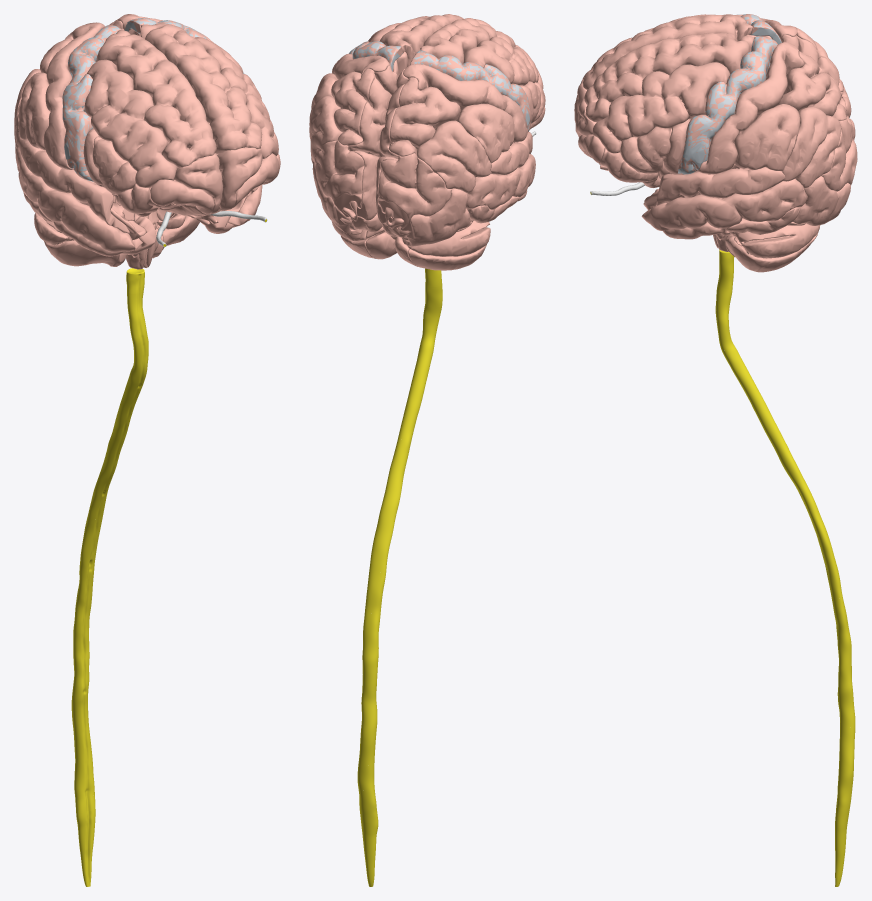
The model's file is nervous.glb.
The picture shows the model from 3 angles, left to right: view 1: azimuth 30°, elevation 25°; view 2: azimuth 150°, elevation 25°; view 3: azimuth 270°, elevation 25°; orthographic projection. The views are drawn at different scales.
Parts seen in each view (by area): view 1: superior-frontal-gyrus, middle-frontal-gyrus, superior-frontal-gyrus-2, middle-temporal-gyrus, superior-temporal-gyrus, postcentral-gyrus, precentral-gyrus, middle-frontal-gyrus-2, hra10-allen-primary-motor-cortex-l, allen-supramarginal-gyrus-l, allen-rostral-gyrus-r, allen-lateral-hemisphere-of-cerebellum-l (+12 smaller); view 2: superior-occipital-gyrus, allen-angular-gyrus-l, allen-supraparietal-lobule-l, postcentral-gyrus, superior-occipital-gyrus-2, allen-lateral-hemisphere-of-cerebellum-l, allen-supraparietal-lobule-r, inferior-occipital-gyrus, allen-supramarginal-gyrus-l, middle-frontal-gyrus, superior-frontal-gyrus, middle-temporal-gyrus (+23 smaller); view 3: middle-frontal-gyrus-2, superior-frontal-gyrus-2, middle-temporal-gyrus-2, postcentral-gyrus-2, allen-supramarginal-gyrus-r, allen-angular-gyrus-r, superior-temporal-gyrus-2, hra10-allen-primary-motor-cortex-r, allen-lateral-hemisphere-of-cerebellum-r, superior-frontal-gyrus, allen-supraparietal-lobule-r, precentral-gyrus-2 (+7 smaller).
Boxes of the visible parts, left/top/right/bottom form: superior-frontal-gyrus: left=96, top=30, right=216, bottom=167; middle-frontal-gyrus: left=84, top=59, right=177, bottom=187; superior-frontal-gyrus-2: left=140, top=23, right=262, bottom=154; middle-temporal-gyrus: left=15, top=147, right=142, bottom=252; superior-temporal-gyrus: left=18, top=139, right=129, bottom=234; postcentral-gyrus: left=43, top=22, right=104, bottom=169; precentral-gyrus: left=62, top=25, right=120, bottom=180; middle-frontal-gyrus-2: left=195, top=37, right=278, bottom=158; hra10-allen-primary-motor-cortex-l: left=62, top=25, right=119, bottom=181; allen-supramarginal-gyrus-l: left=18, top=72, right=50, bottom=150; allen-rostral-gyrus-r: left=217, top=147, right=262, bottom=210; allen-lateral-hemisphere-of-cerebellum-l: left=34, top=213, right=118, bottom=266; superior-occipital-gyrus: left=378, top=153, right=451, bottom=228; allen-angular-gyrus-l: left=417, top=120, right=491, bottom=192; allen-supraparietal-lobule-l: left=388, top=77, right=460, bottom=156; postcentral-gyrus: left=403, top=64, right=527, bottom=142; superior-occipital-gyrus-2: left=315, top=139, right=364, bottom=217; allen-lateral-hemisphere-of-cerebellum-l: left=408, top=221, right=490, bottom=270; allen-supraparietal-lobule-r: left=331, top=68, right=374, bottom=145; inferior-occipital-gyrus: left=401, top=188, right=472, bottom=246; allen-supramarginal-gyrus-l: left=457, top=103, right=514, bottom=163; middle-frontal-gyrus: left=463, top=36, right=543, bottom=88; superior-frontal-gyrus: left=420, top=18, right=519, bottom=64; middle-temporal-gyrus: left=466, top=154, right=535, bottom=209; middle-frontal-gyrus-2: left=592, top=62, right=730, bottom=153; superior-frontal-gyrus-2: left=584, top=33, right=753, bottom=122; middle-temporal-gyrus-2: left=641, top=178, right=807, bottom=230; postcentral-gyrus-2: left=698, top=42, right=804, bottom=174; allen-supramarginal-gyrus-r: left=733, top=104, right=800, bottom=171; allen-angular-gyrus-r: left=782, top=107, right=841, bottom=188; superior-temporal-gyrus-2: left=653, top=167, right=785, bottom=206; hra10-allen-primary-motor-cortex-r: left=678, top=36, right=776, bottom=174; allen-lateral-hemisphere-of-cerebellum-r: left=721, top=223, right=819, bottom=272; superior-frontal-gyrus: left=582, top=14, right=752, bottom=89; allen-supraparietal-lobule-r: left=778, top=51, right=846, bottom=120; precentral-gyrus-2: left=678, top=36, right=777, bottom=173.
Bounding box in the file's own units: 0.1363 × 0.5552 × 0.1659.
